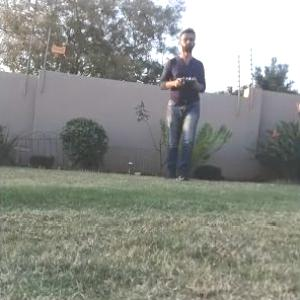follow: (154, 24, 210, 184)
